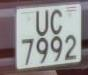2: (63, 33, 79, 65)
7: (21, 34, 37, 69)
9: (35, 35, 52, 67), (49, 35, 65, 65)
C: (49, 9, 65, 38)
U: (34, 9, 50, 39)
